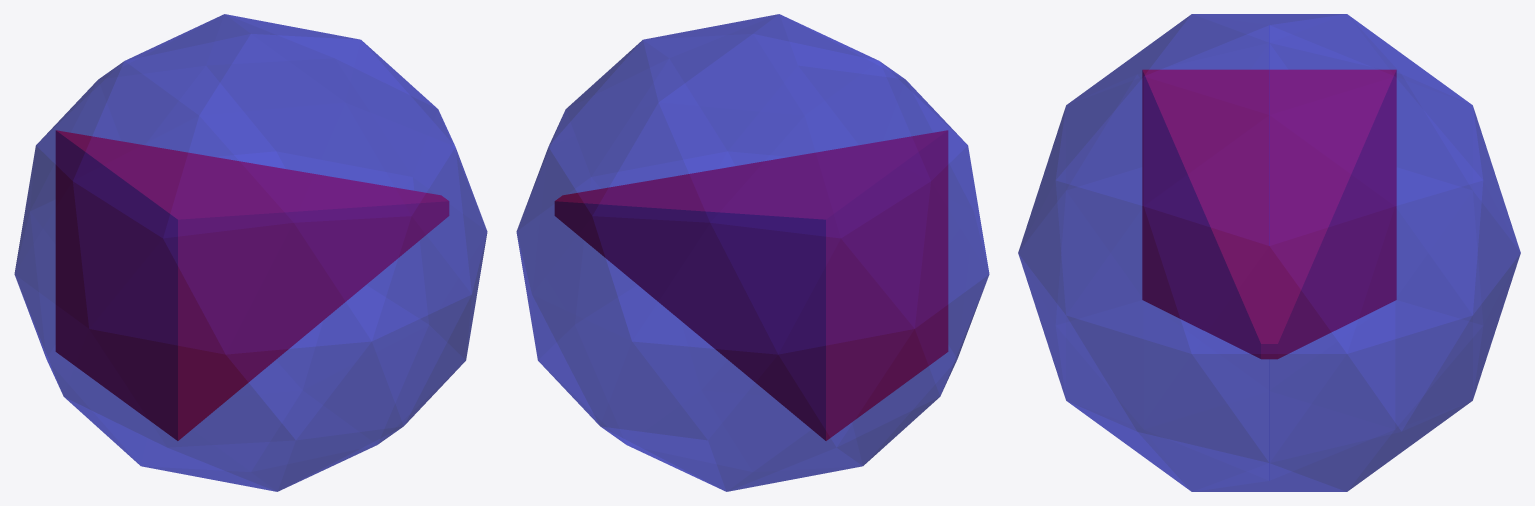
The model's file is compass.dae.
3 renders of one model, left to right at view 1: azimuth 30°, elevation 25°; view 2: azimuth 150°, elevation 25°; view 3: azimuth 270°, elevation 25°, orthographic. The views are drawn at different scales.
Visible parts, largest first — view 1: Icosphere, Cube; view 2: Icosphere, Cube; view 3: Icosphere, Cube.
Part boxes in pixels (x1,y1,x2,y2): Icosphere: (14,14,487,491); Cube: (55,130,449,440); Icosphere: (516,14,989,491); Cube: (554,130,948,440); Icosphere: (1018,14,1520,491); Cube: (1142,69,1396,359).
Bounding box in the file's own units: 1.9 × 2 × 2.
